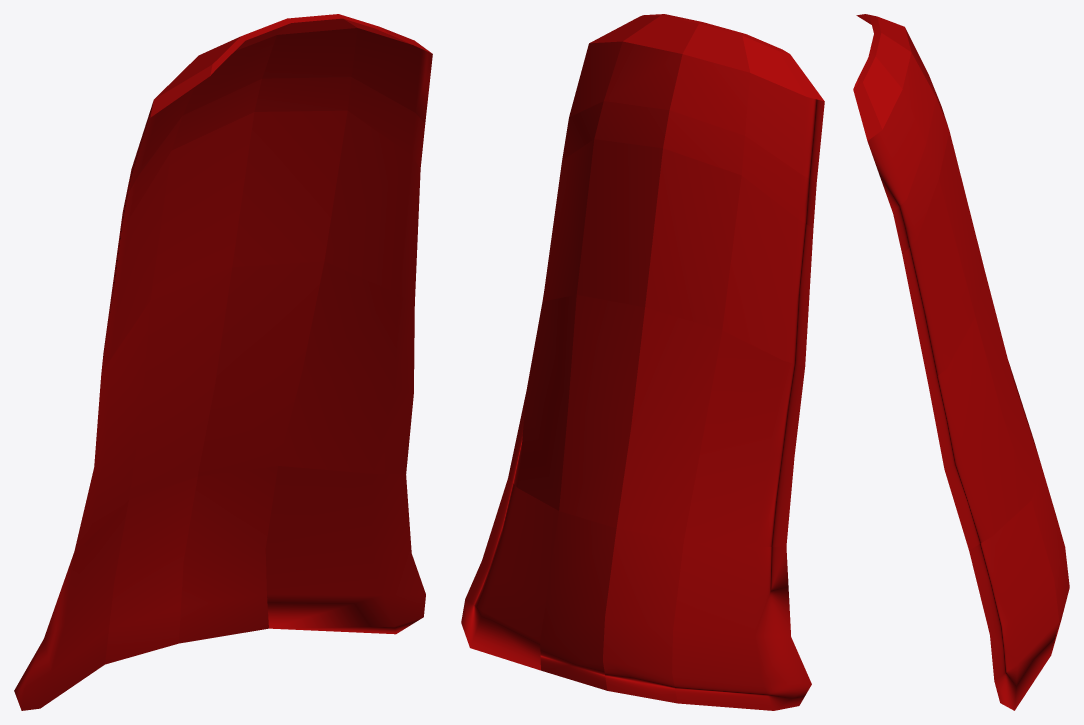
The model's file is pelerin.fbx.
3 renders of one model, left to right at view 1: azimuth 30°, elevation 25°; view 2: azimuth 150°, elevation 25°; view 3: azimuth 270°, elevation 25°, orthographic. The views are drawn at different scales.
Parts seen in each view (by area): view 1: polySurface5; view 2: polySurface5; view 3: polySurface5.
Part boxes in pixels (x1,y1,x2,y2): polySurface5: [14, 14, 432, 710]; polySurface5: [461, 14, 824, 710]; polySurface5: [853, 14, 1069, 710].
Bounding box in the file's own units: 102 × 171 × 55.82.
